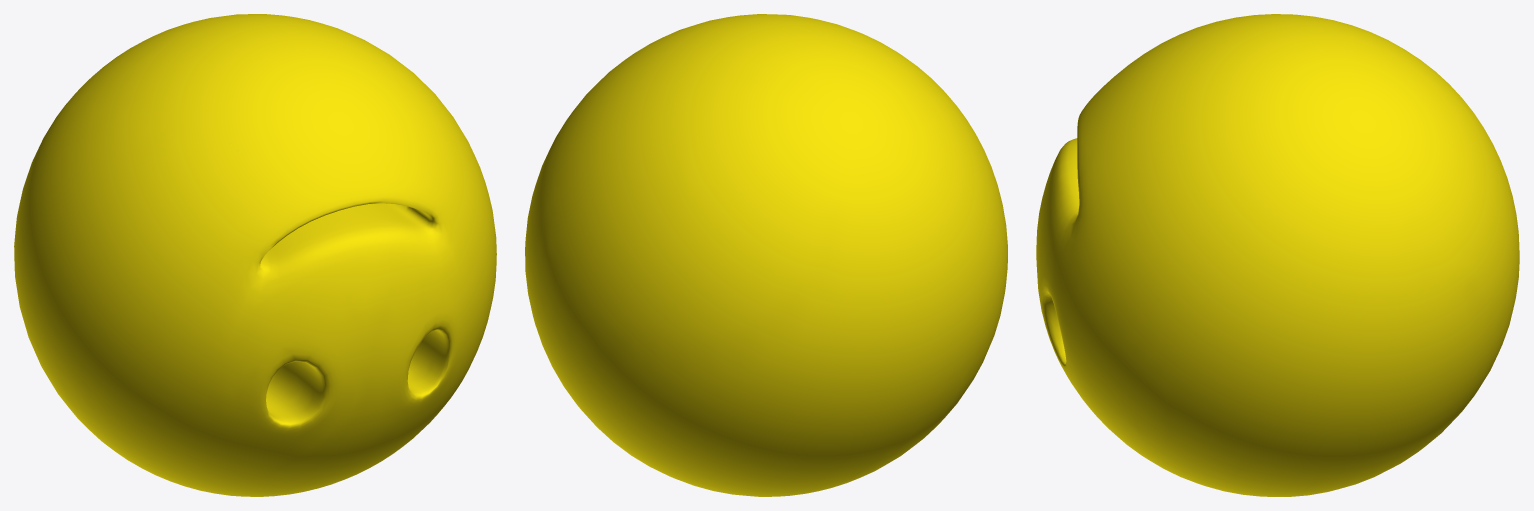
Rendered from inverted.dae.
The picture shows the model from 3 angles, left to right: view 1: azimuth 30°, elevation 25°; view 2: azimuth 150°, elevation 25°; view 3: azimuth 270°, elevation 25°; orthographic projection.
Visible parts, largest first — view 1: Group8959; view 2: Group8959; view 3: Group8959.
Part boxes in pixels (x1=…): Group8959: x1=14, y1=14, x2=496, y2=496; Group8959: x1=525, y1=14, x2=1007, y2=496; Group8959: x1=1036, y1=14, x2=1519, y2=496.
Size of the model in its own units: 22 by 22.04 by 22.03.
1 material, 1 textured.
